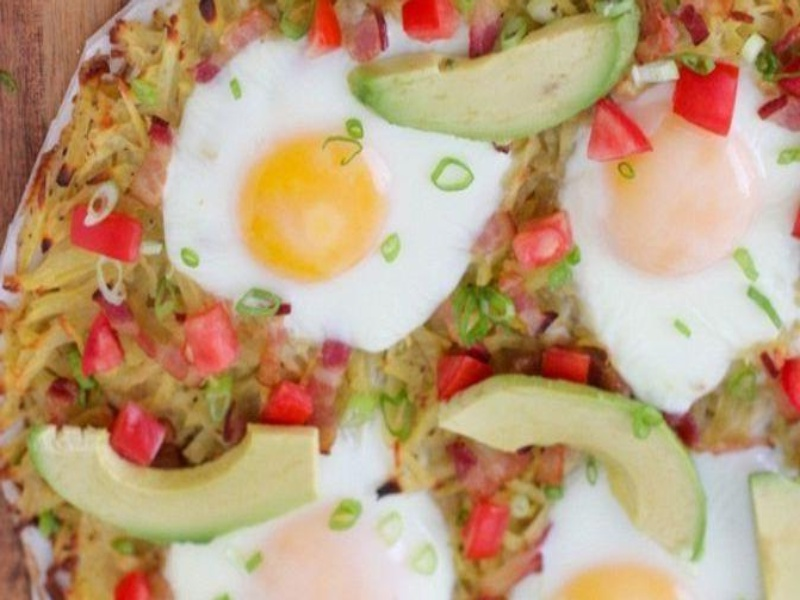oeuf: (223, 110, 410, 299), (592, 108, 760, 315)
